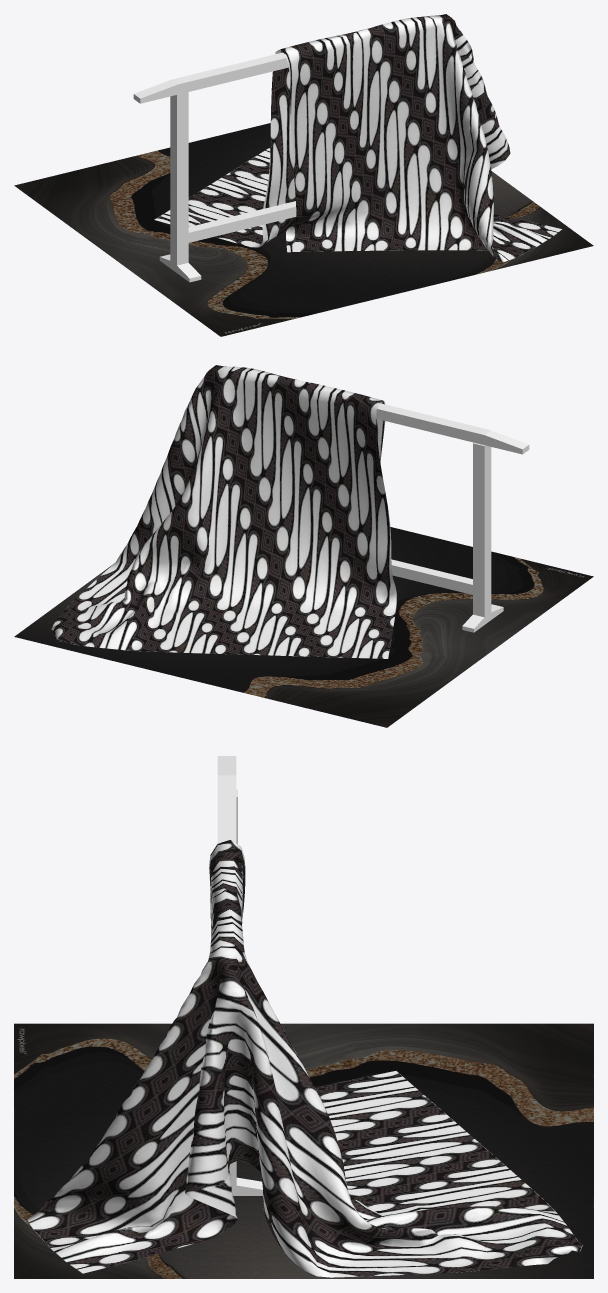
The model's file is batik_parang.glb.
3 renders of one model, top to bottom at view 1: azimuth 30°, elevation 25°; view 2: azimuth 150°, elevation 25°; view 3: azimuth 270°, elevation 25°, orthographic. The views are drawn at different scales.
Visible parts, largest first — view 1: Object_3, Object_2, Object_4; view 2: Object_3, Object_2, Object_4; view 3: Object_3, Object_2, Object_4.
Boxes of the visible parts, x1,y1,x2,y2 form: Object_3: (154,14,561,262); Object_2: (14,123,593,336); Object_4: (133,52,296,282); Object_3: (51,365,396,658); Object_2: (14,527,593,727); Object_4: (376,403,529,632); Object_3: (27,840,582,1277); Object_2: (14,1023,593,1278); Object_4: (217,756,262,1195).
Bounding box in the file's own units: 37.51 × 18.74 × 35.26.
3 materials, 2 textured.
